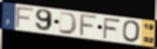9: (35, 9, 55, 33)
D: (58, 11, 79, 36)
F: (14, 6, 35, 29), (79, 14, 99, 38), (102, 17, 122, 40)
O: (122, 20, 142, 44)
